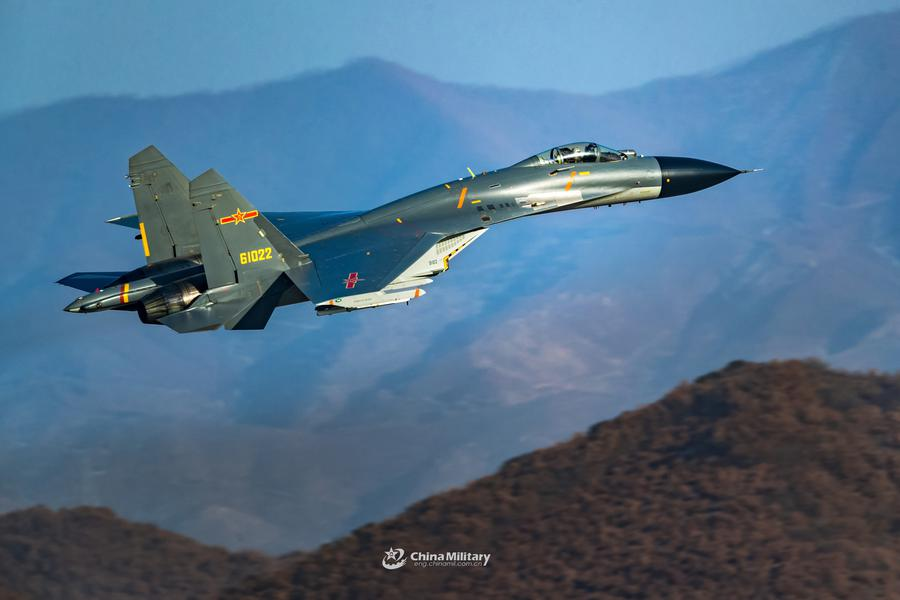airplane: (48, 136, 771, 336)
